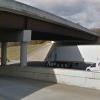Bridge: (9, 0, 95, 60)
